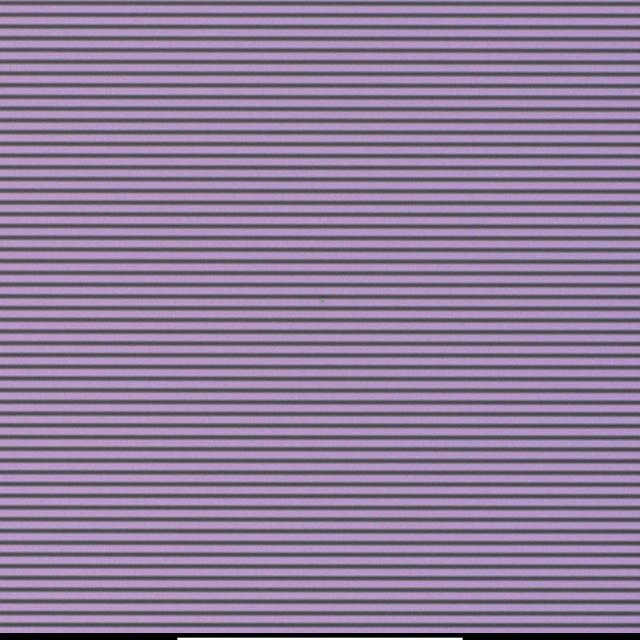nonvisual: (318, 294, 331, 305)
